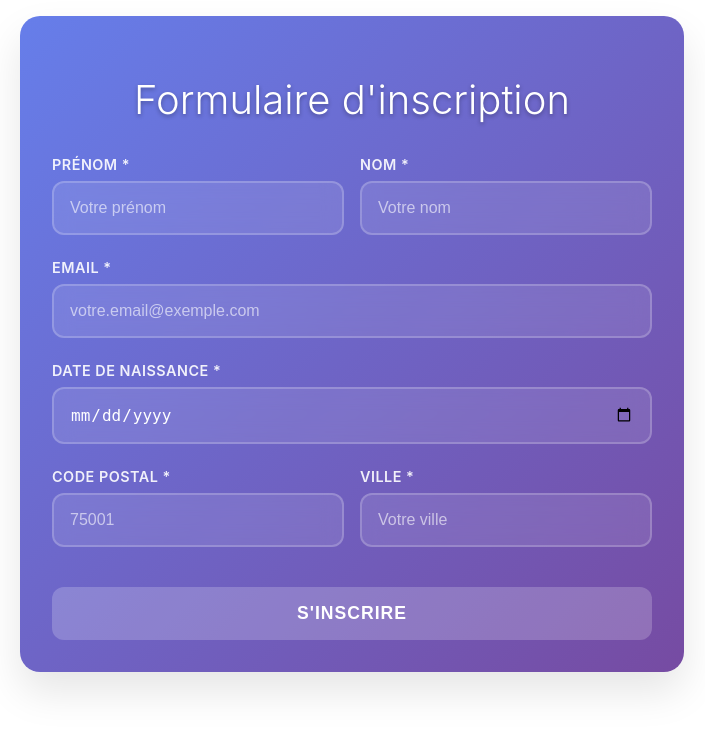
it: UserForm Component › Validation des champs › devrait afficher une erreur pour un code postal invalide
This screenshot has width=705, height=752.
Step 1. Type "7501" into the field labelled "Code postal *" → (198, 520), box [52,493,344,547]
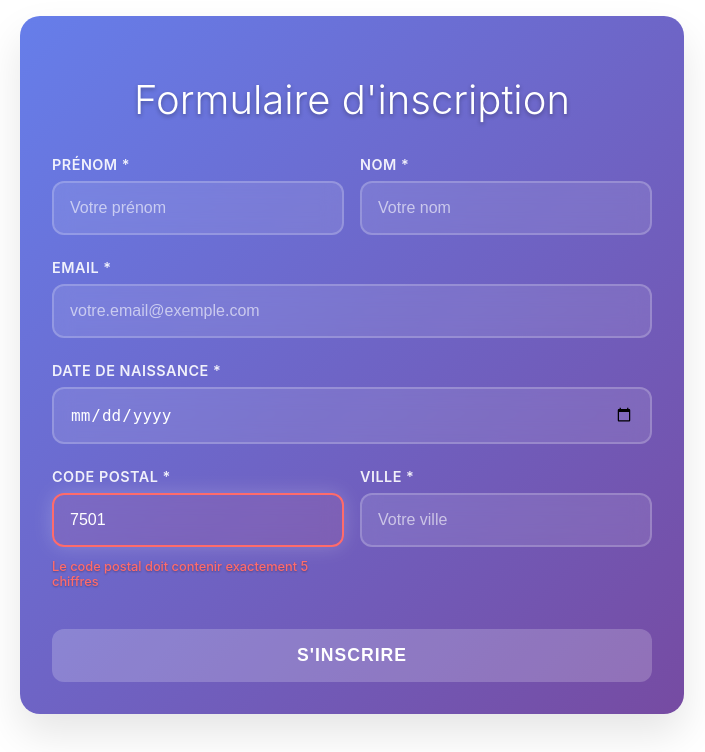
Now the text "Le code postal doit contenir exactement 5 chiffres" is shown, box [52,559,344,589]
